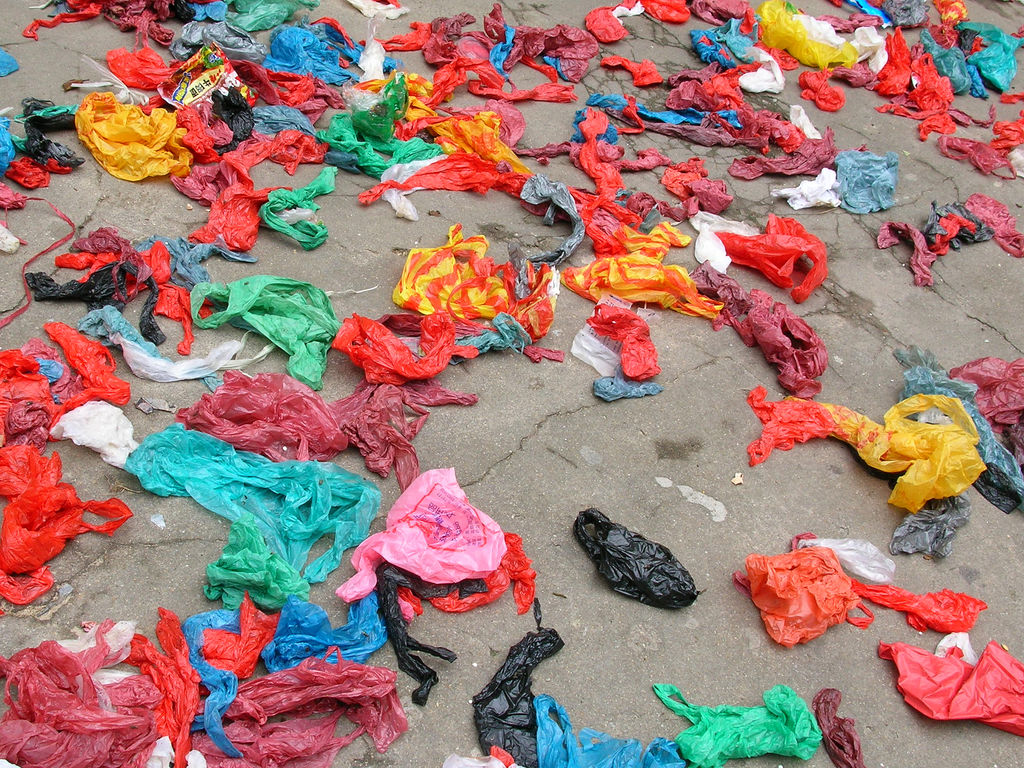plastic_bag: (573, 499, 705, 618), (809, 680, 879, 768), (590, 373, 671, 407)
